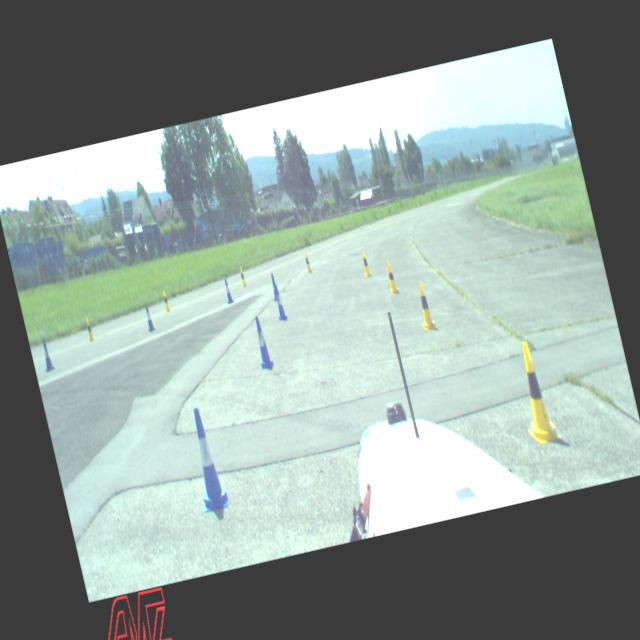blue_cone: (182, 405, 230, 511), (250, 314, 275, 370), (272, 283, 288, 320), (39, 338, 54, 370), (222, 277, 234, 303), (143, 304, 155, 330), (268, 272, 279, 300)
yellow_cone: (508, 338, 562, 445), (412, 279, 437, 330), (384, 258, 398, 294), (359, 250, 372, 276), (84, 316, 95, 340), (302, 251, 312, 273), (160, 290, 170, 312), (238, 266, 247, 287)
